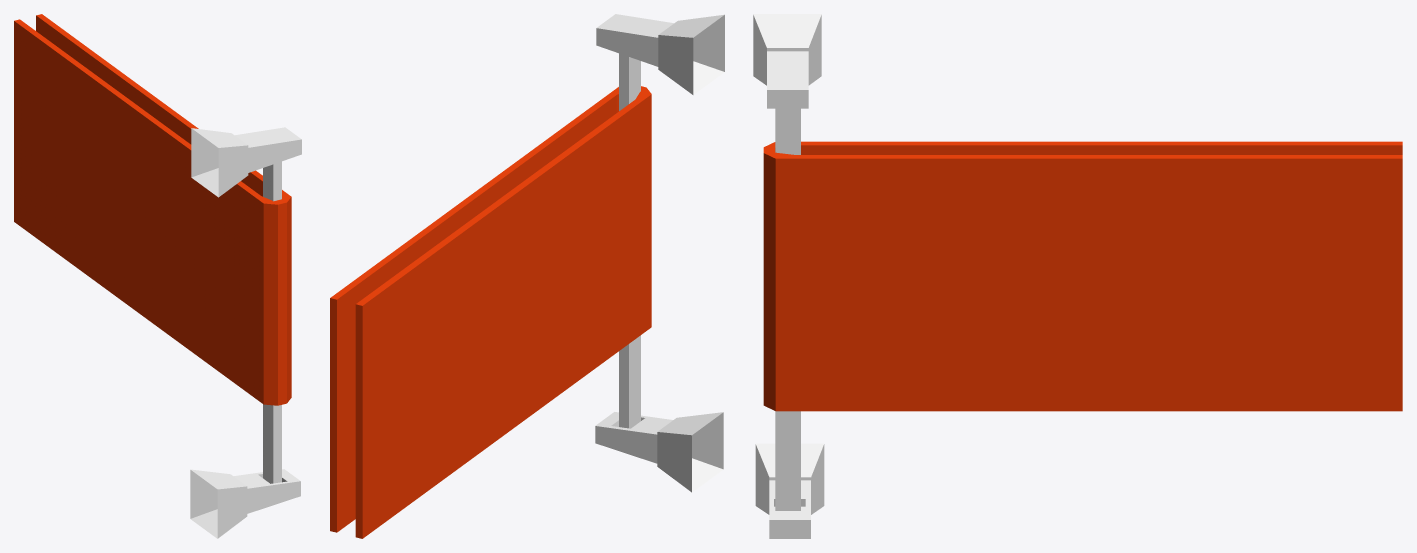
3 renders of one model, left to right at view 1: azimuth 30°, elevation 25°; view 2: azimuth 150°, elevation 25°; view 3: azimuth 270°, elevation 25°, orthographic. The views are drawn at different scales.
Parts seen in each view (by area): view 1: low er poly towel rack; view 2: low er poly towel rack; view 3: low er poly towel rack.
Boxes of the visible parts, <box> form: low er poly towel rack: <box>14,14,301,538</box>; low er poly towel rack: <box>330,14,724,538</box>; low er poly towel rack: <box>753,14,1402,538</box>.
Bounding box in the file's own units: 3.31 × 13.93 × 16.67.
